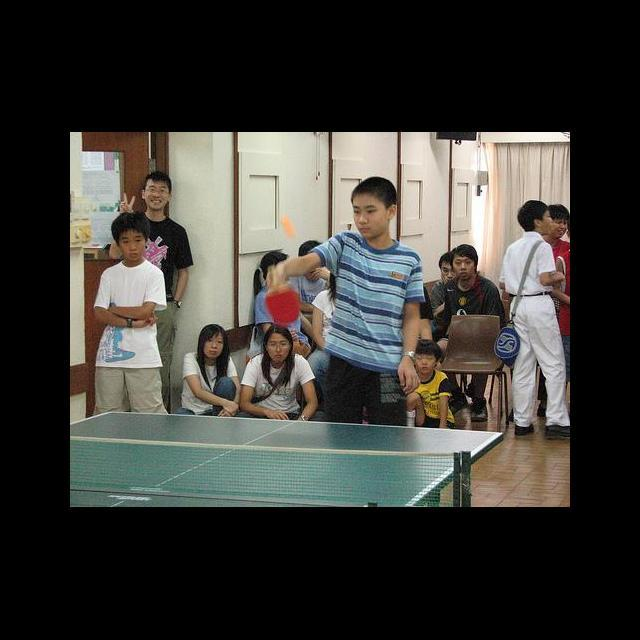ping-pong-ball: (280, 216, 296, 237)
